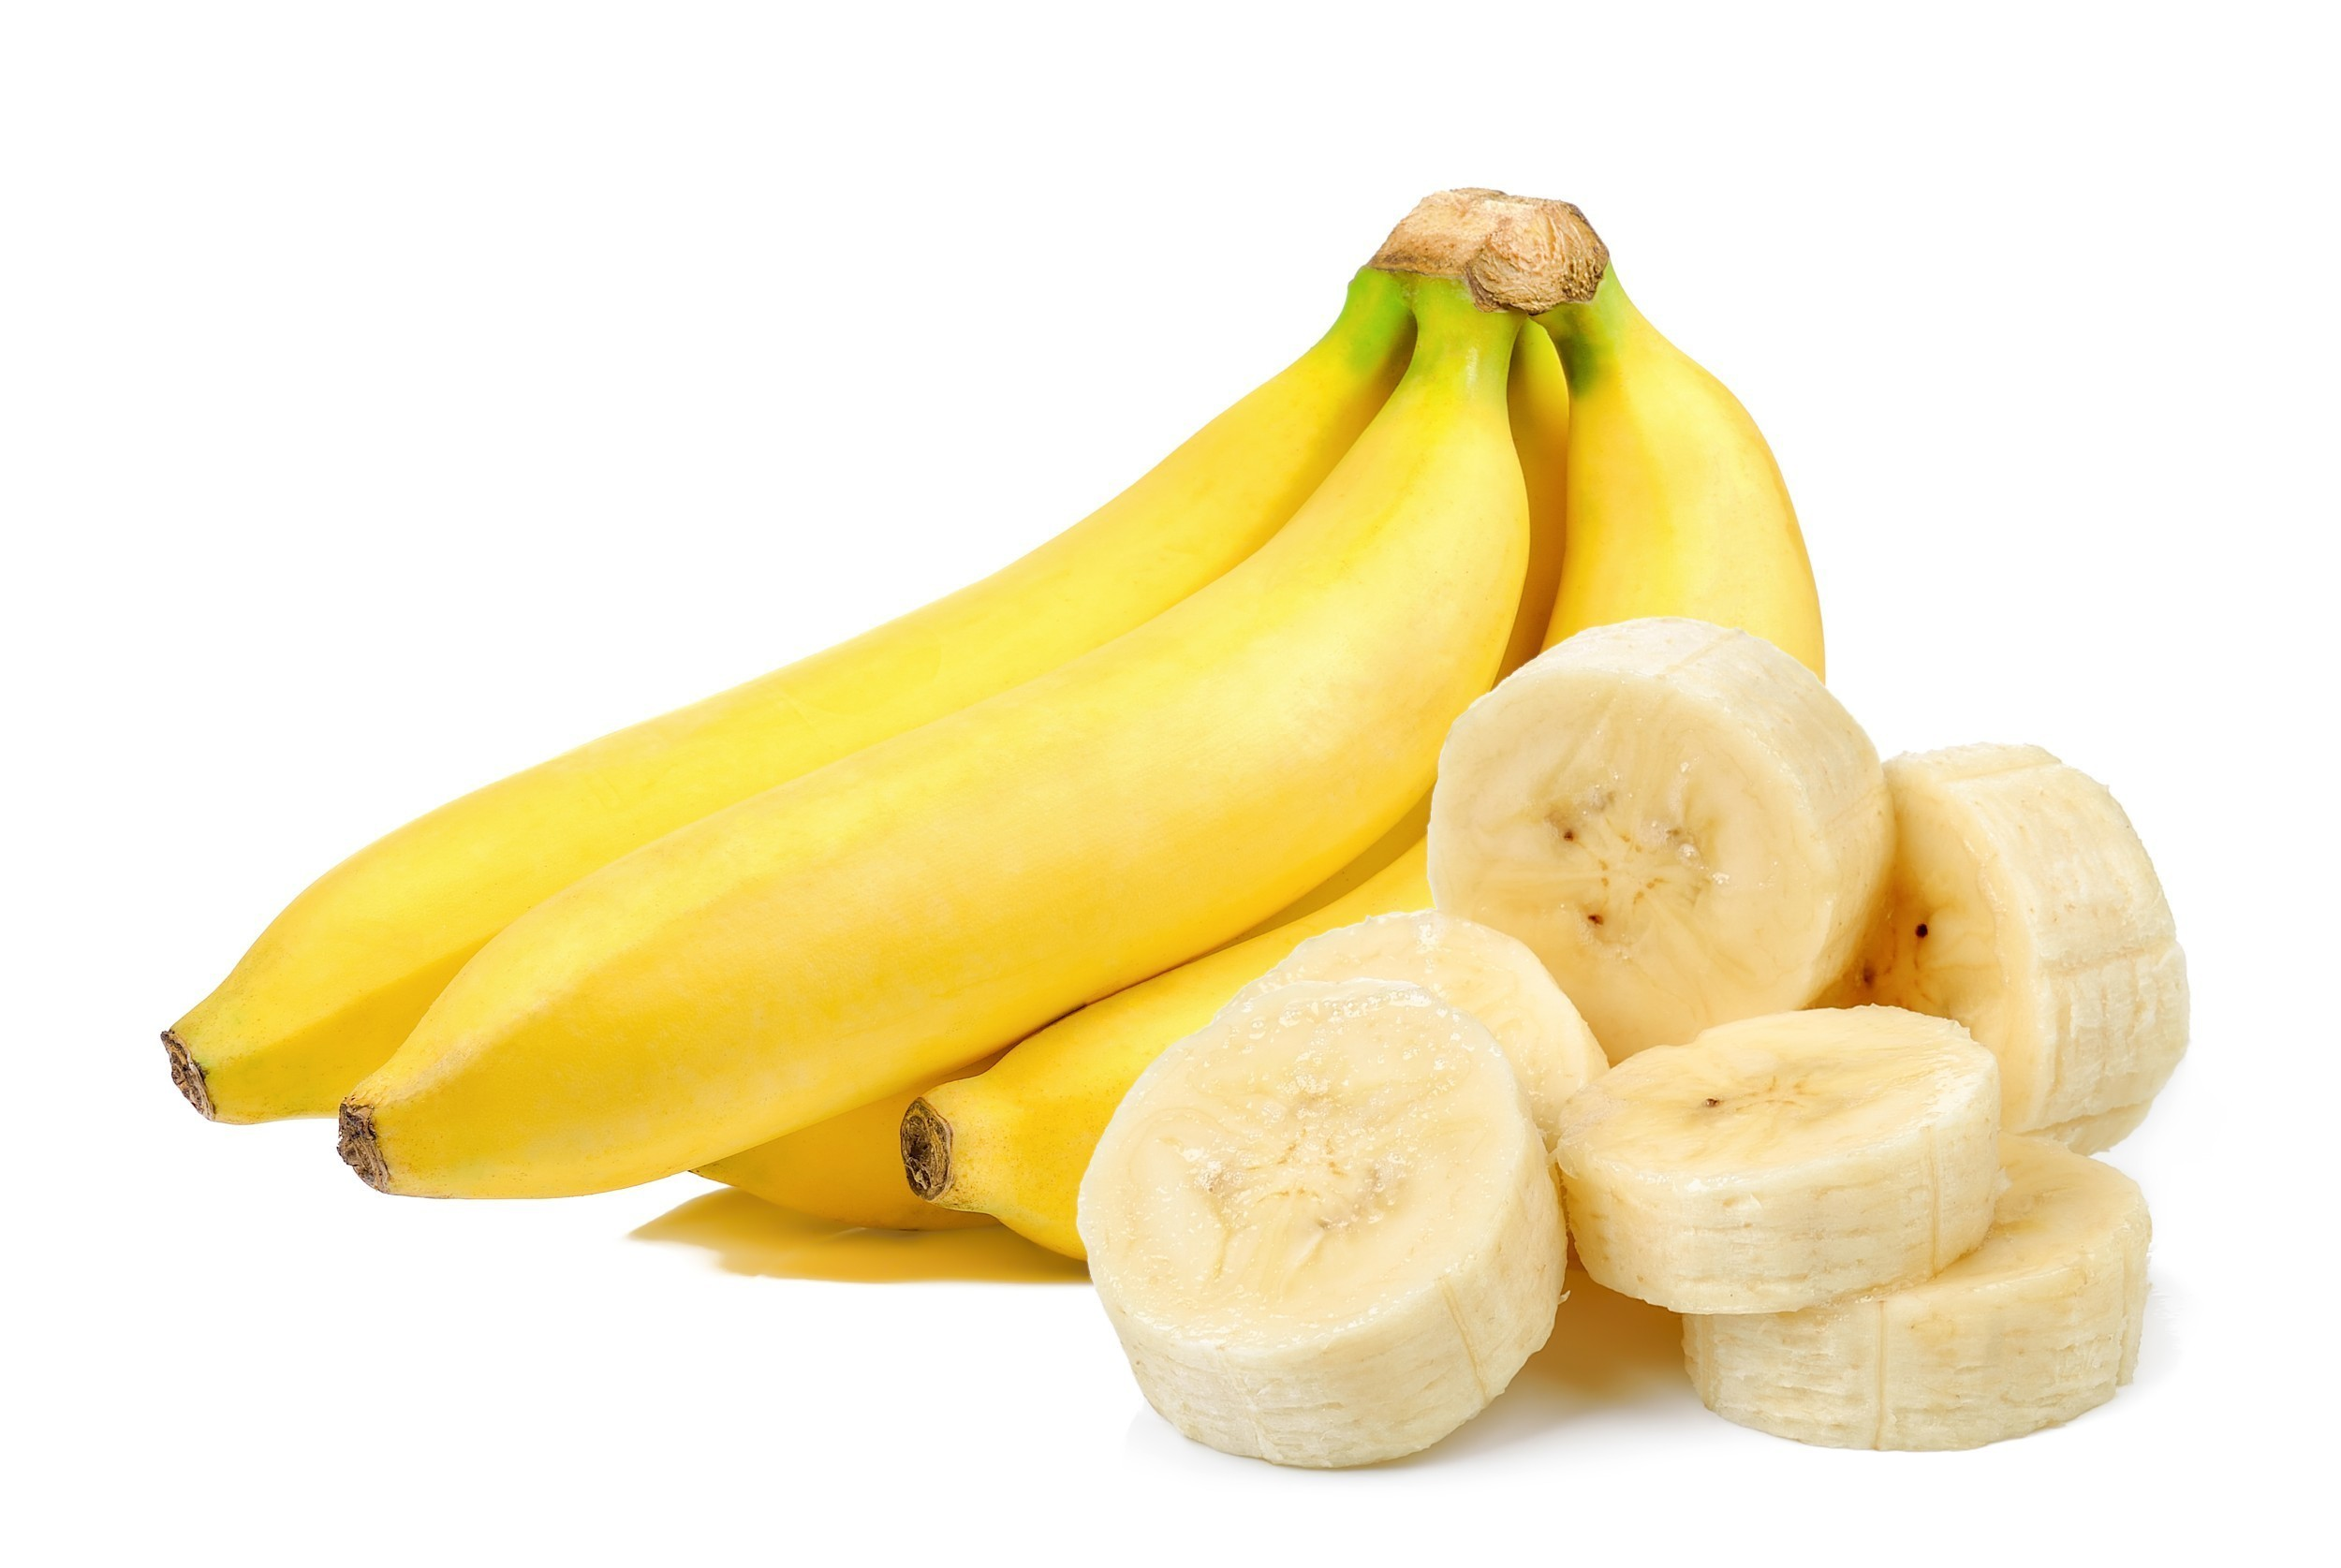banana: (299, 369, 1821, 1235)
